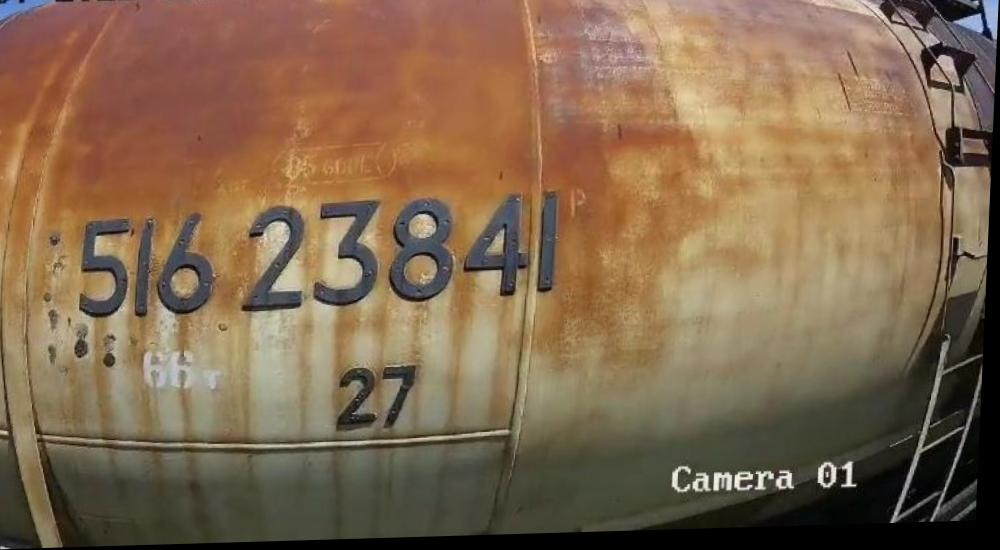Wagon-number: (78, 188, 565, 326)
